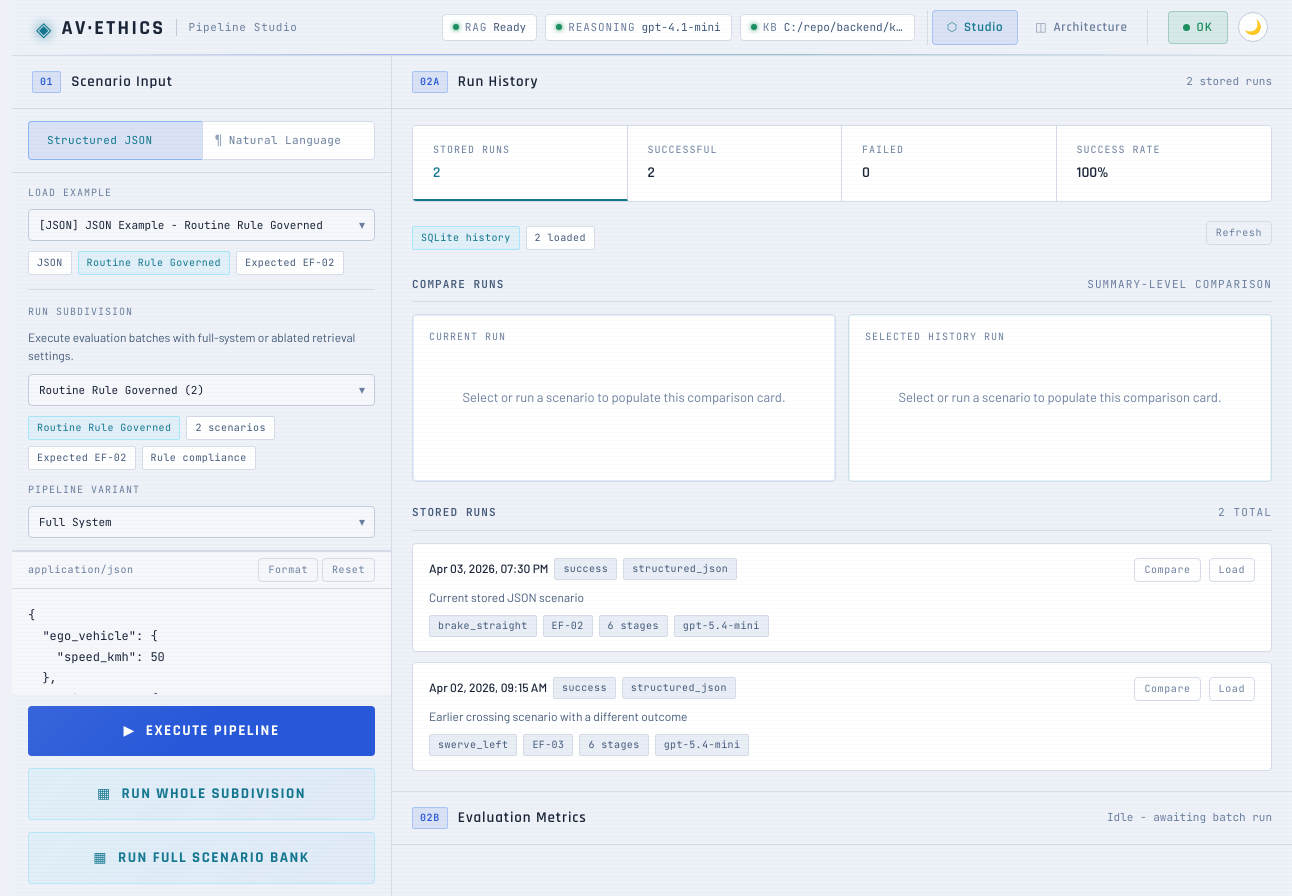
Test case: App › renders degraded runtime warnings without failing the whole UI
The width and height of the screenshot is (1292, 896).
Click the button with aria-label "Run Scenario".
click(202, 731)  # box x1=28 y1=706 x2=375 y2=756
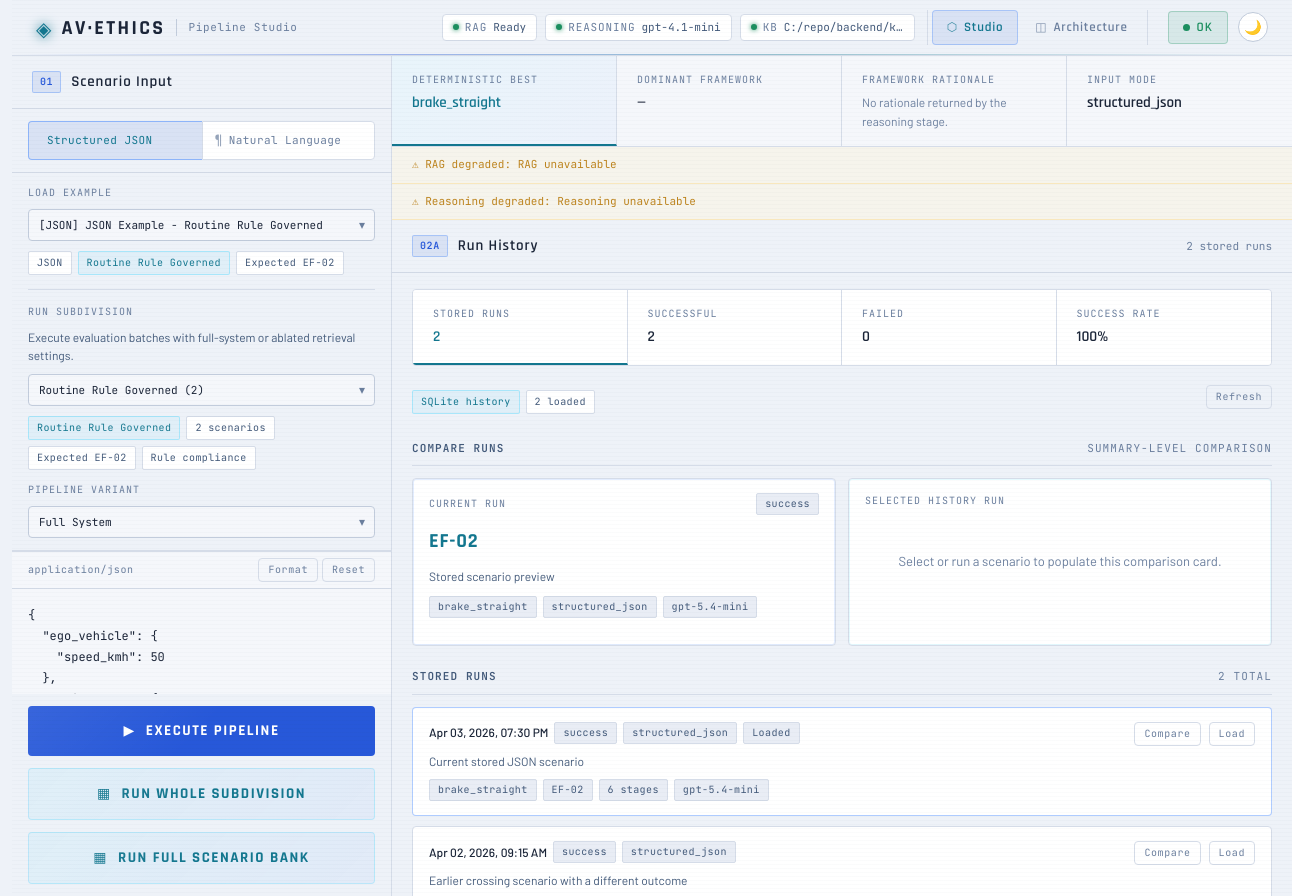
Expected: the text "⚠ RAG degraded: RAG unavailable" is shown, x1=392 y1=147 x2=1291 y2=184
Expected: the text "⚠ Reasoning degraded: Reasoning unavailable" is shown, x1=392 y1=184 x2=1291 y2=220
